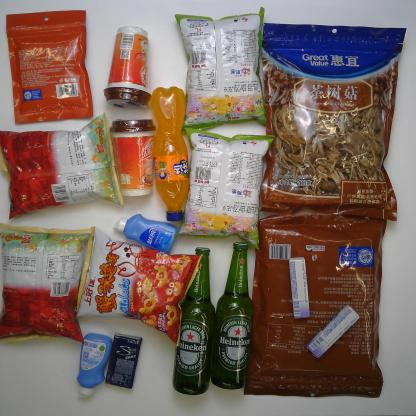Alcohol: (171, 246, 216, 396), (211, 240, 254, 390)
Candy: (305, 305, 363, 359), (288, 256, 313, 320)
Dried Food: (258, 21, 407, 221), (242, 207, 388, 400)
Dried Fruit: (4, 8, 94, 125)
Drink: (150, 85, 191, 223)
Gum: (104, 331, 142, 390)
Instant Drink: (103, 25, 153, 109), (110, 118, 157, 198)
Personal Hygiene: (112, 212, 178, 253), (75, 332, 114, 398)
Puffed Food: (75, 225, 204, 348), (0, 111, 124, 221), (174, 126, 277, 251), (174, 6, 267, 134), (0, 218, 94, 344)
